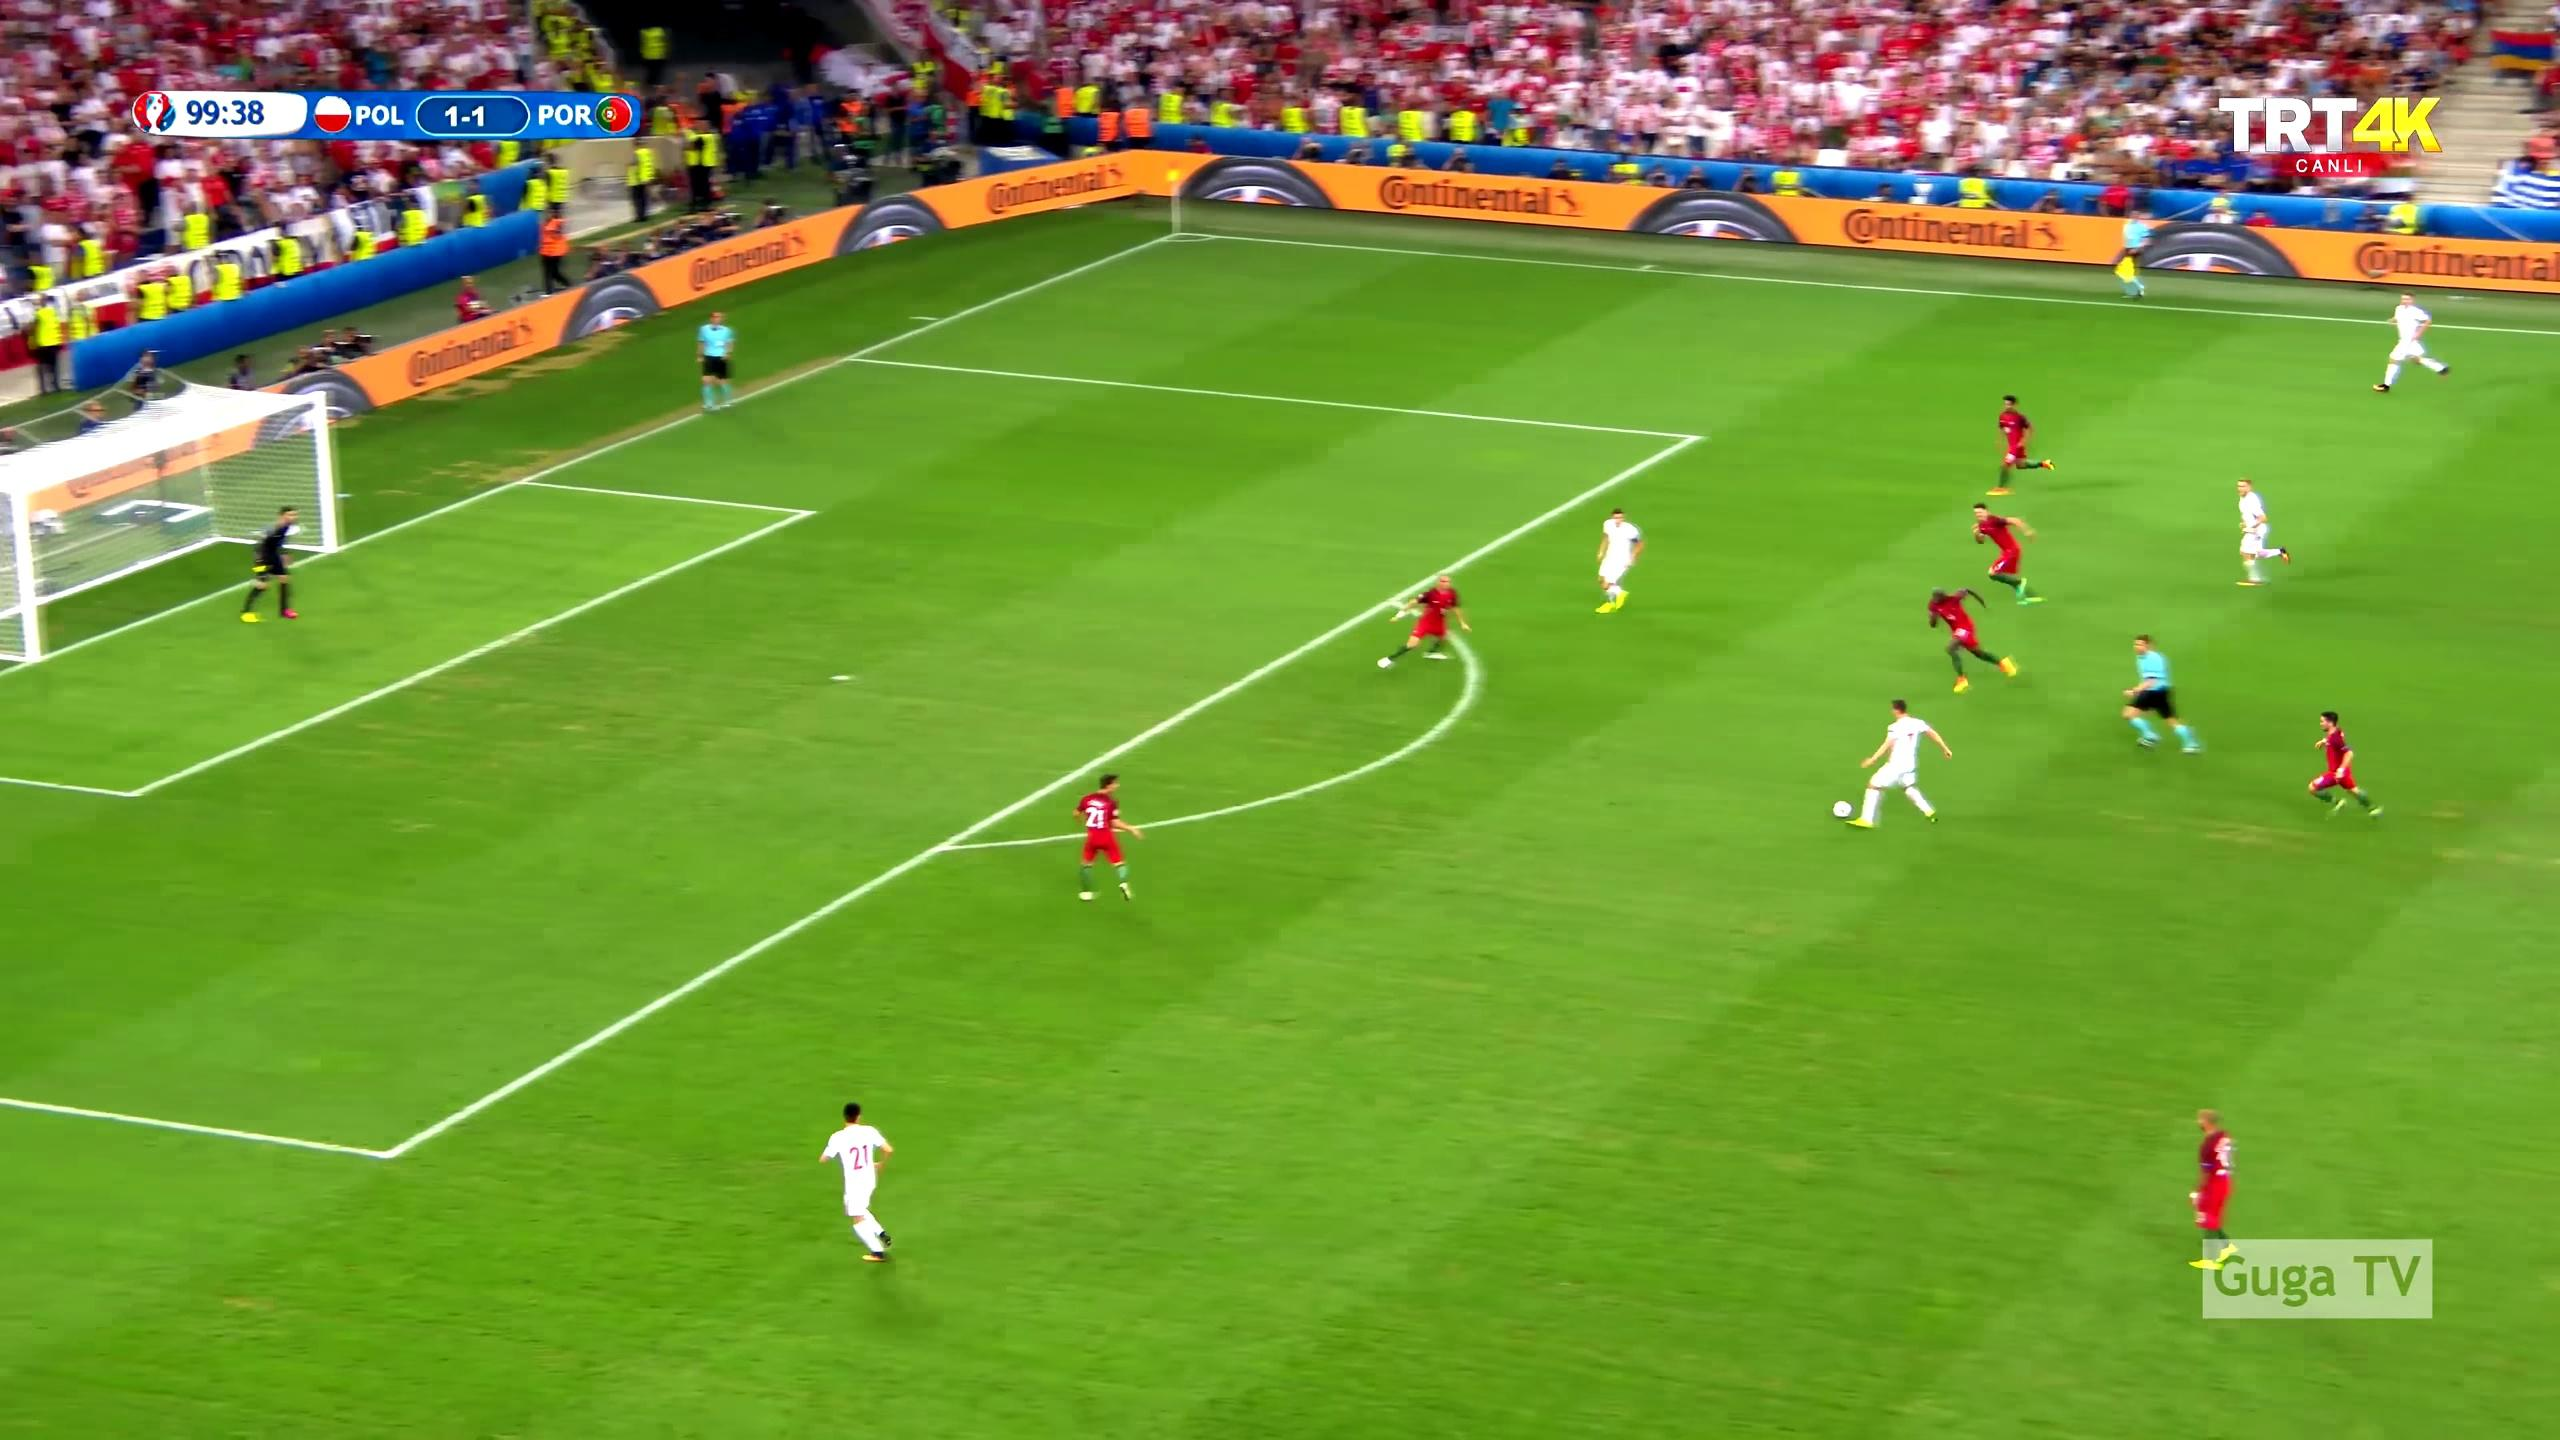ball: (1830, 795, 1856, 826)
goalkeeper: (235, 504, 303, 628)
player: (1839, 698, 1953, 838), (815, 1095, 901, 1267), (1918, 582, 2023, 695), (1374, 568, 1482, 675), (2305, 708, 2388, 827), (2180, 1100, 2238, 1266), (1068, 773, 1139, 907), (2376, 287, 2457, 397), (1978, 393, 2056, 502), (1964, 497, 2041, 607), (2234, 475, 2297, 589), (1591, 502, 1653, 616)
referee: (2125, 631, 2212, 761), (696, 310, 750, 420), (2103, 203, 2153, 302)
